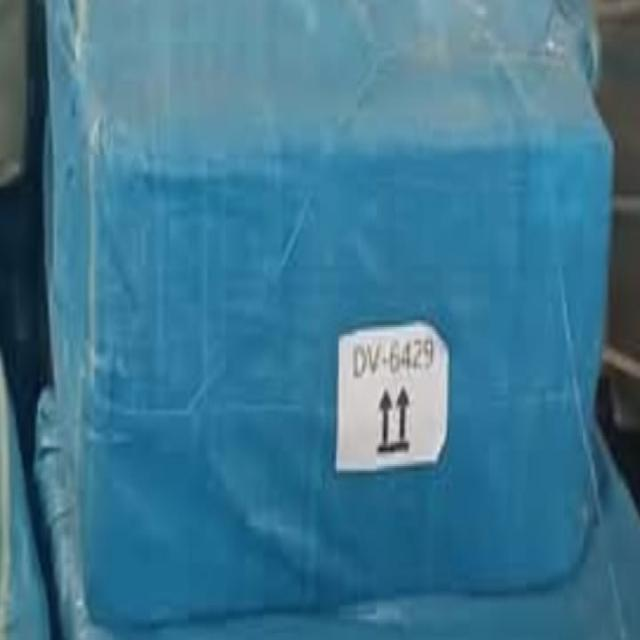this_side_up_label: (376, 388, 423, 467)
